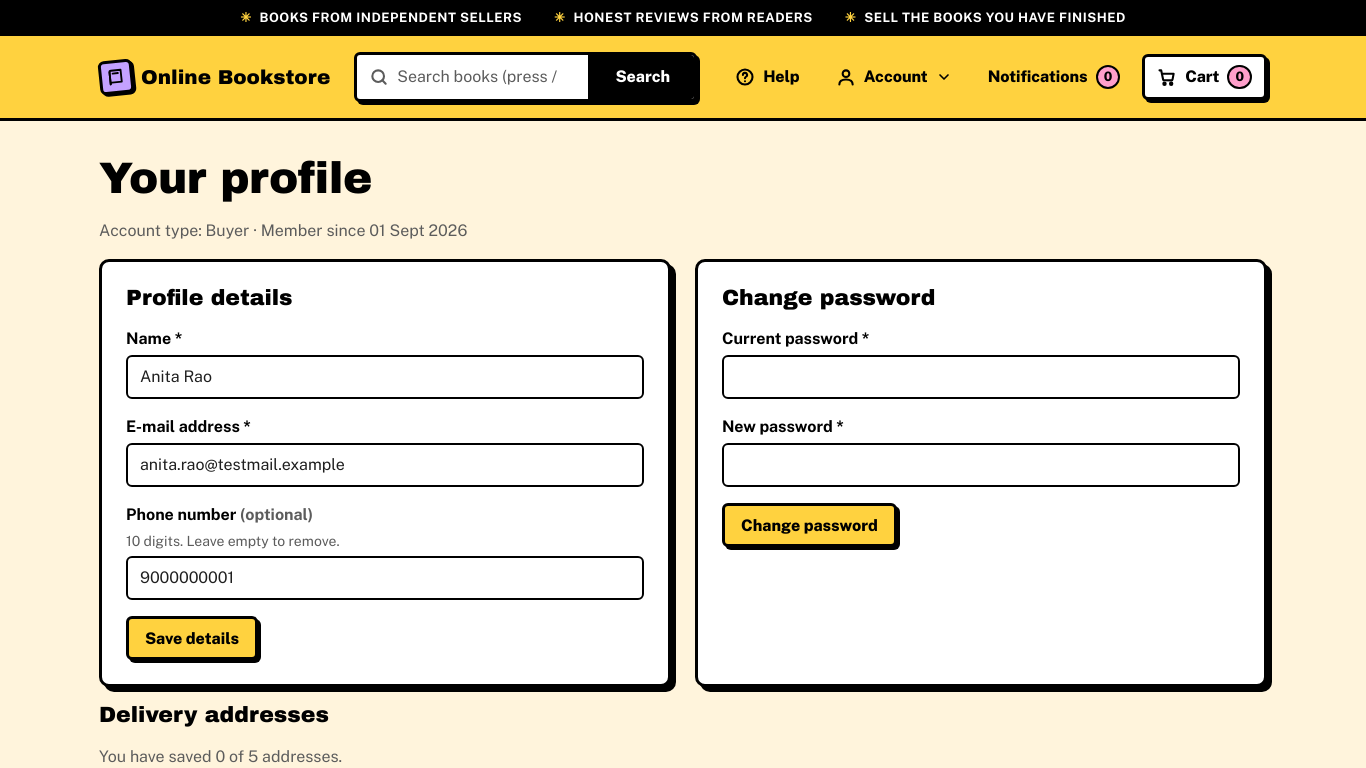
Test case: Profile page › TC-ST03-02: saving a new name and phone sends them and confirms
The image size is (1366, 768).
Replace the text in the field labelled "Name *" with "Anita R Rao" at (385, 377), box [126,355,644,399]
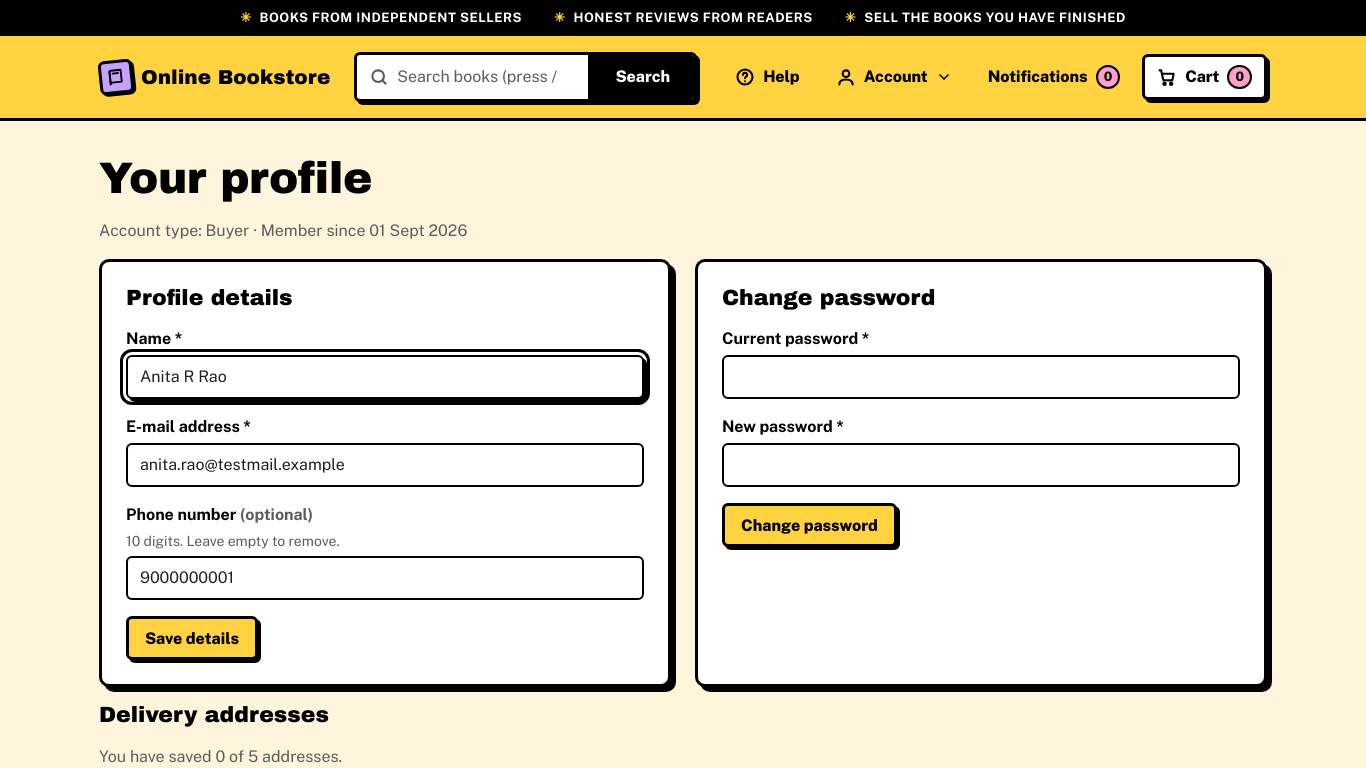
Replace the text in the field labelled "Phone number (optional)" with "9000000011" at (385, 578), box [126,556,644,600]
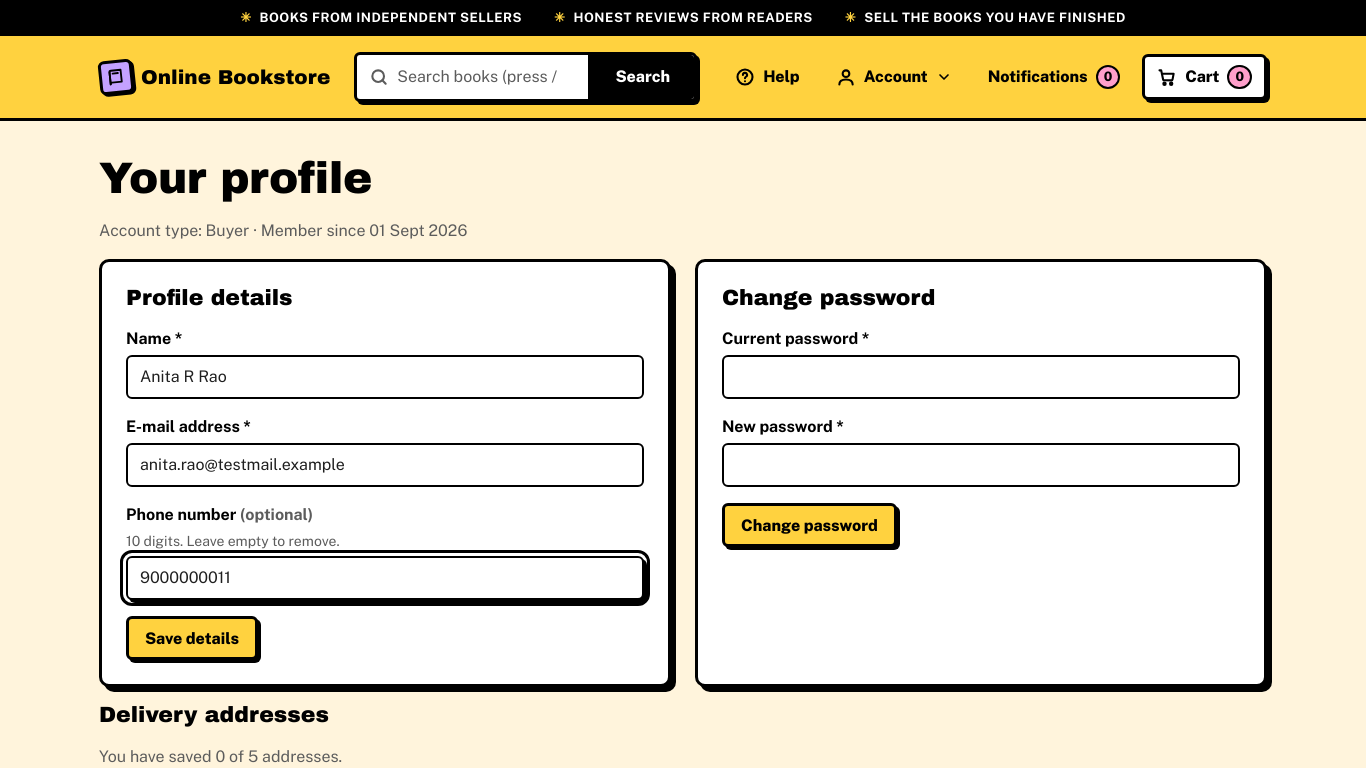
Click the button "Save details".
click(192, 638)  # box [126,616,258,660]
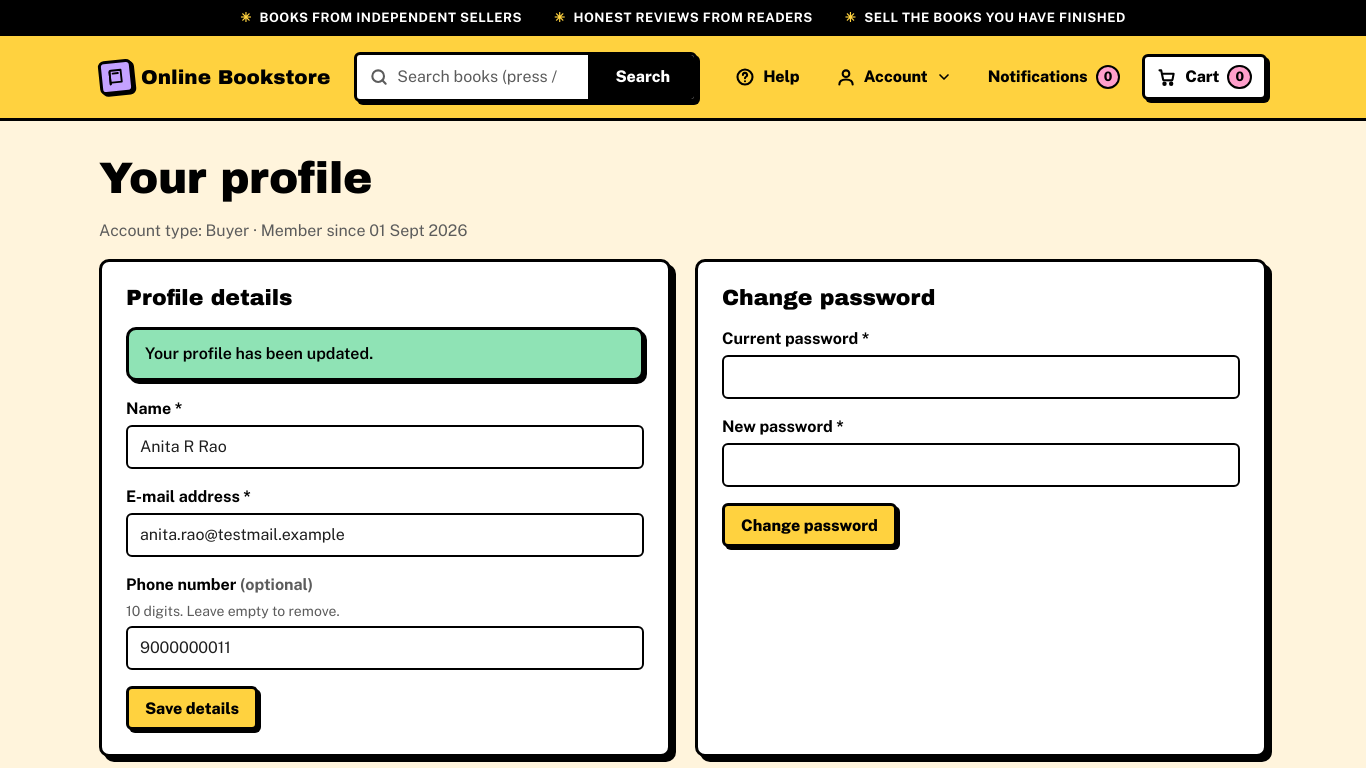
Result: the text "Your profile has been updated." is shown at [126,327,644,381]
